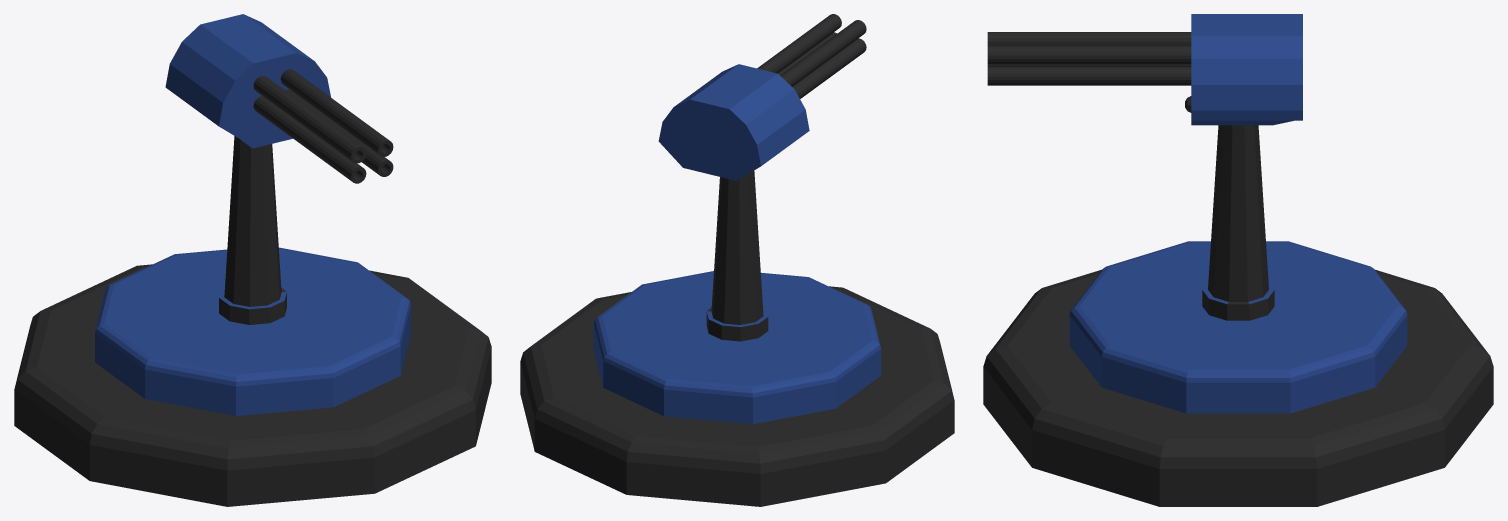
Rendered from FlakTurret.fbx.
The picture shows the model from 3 angles, left to right: view 1: azimuth 30°, elevation 25°; view 2: azimuth 150°, elevation 25°; view 3: azimuth 270°, elevation 25°; orthographic projection. The views are drawn at different scales.
Visible parts, largest first — view 1: FirstTurret; view 2: FirstTurret; view 3: FirstTurret.
Boxes of the visible parts, x1=… form: FirstTurret: x1=14, y1=14, x2=491, y2=506; FirstTurret: x1=520, y1=14, x2=954, y2=506; FirstTurret: x1=983, y1=14, x2=1493, y2=506.
Bounding box in the file's own units: 35.69 × 30.78 × 37.53.
